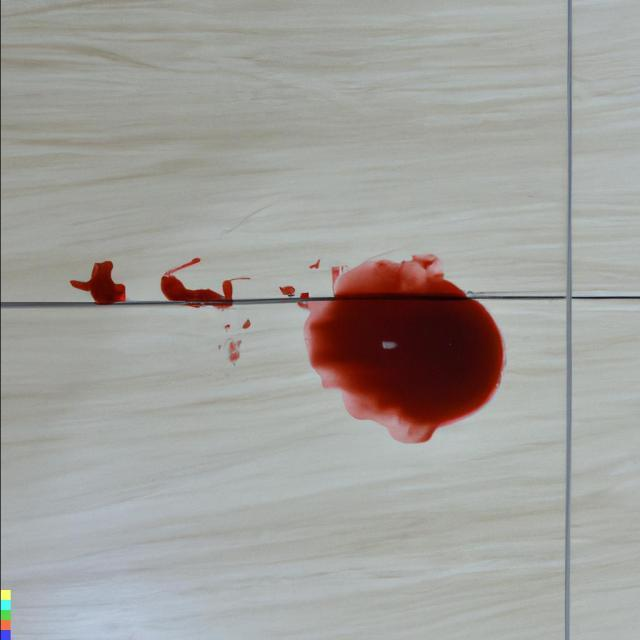flood: (300, 250, 509, 451)
